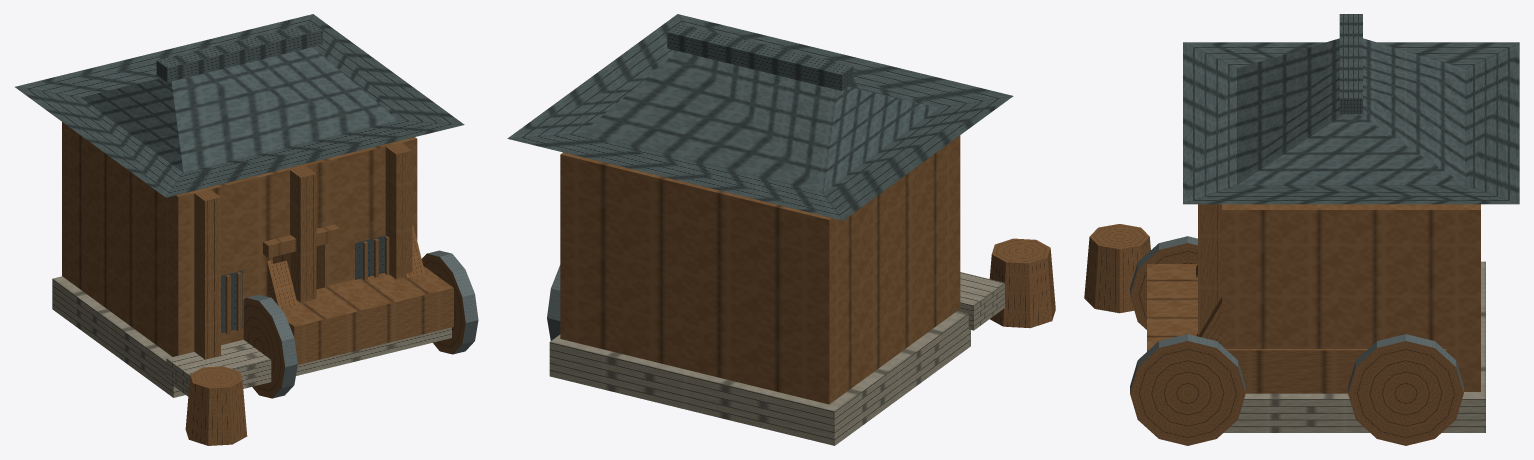
File: domestic-WORKSHOP-1-lod0.glb
The picture shows the model from 3 angles, left to right: view 1: azimuth 30°, elevation 25°; view 2: azimuth 150°, elevation 25°; view 3: azimuth 270°, elevation 25°; orthographic projection. The views are drawn at different scales.
Size of the model in its own units: 0.5733 by 0.509 by 0.639.
Materials: 1 (1 with a texture image).
